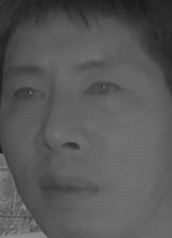eye: (81, 78, 124, 101), (8, 84, 48, 106)
mouth: (35, 168, 99, 209)
